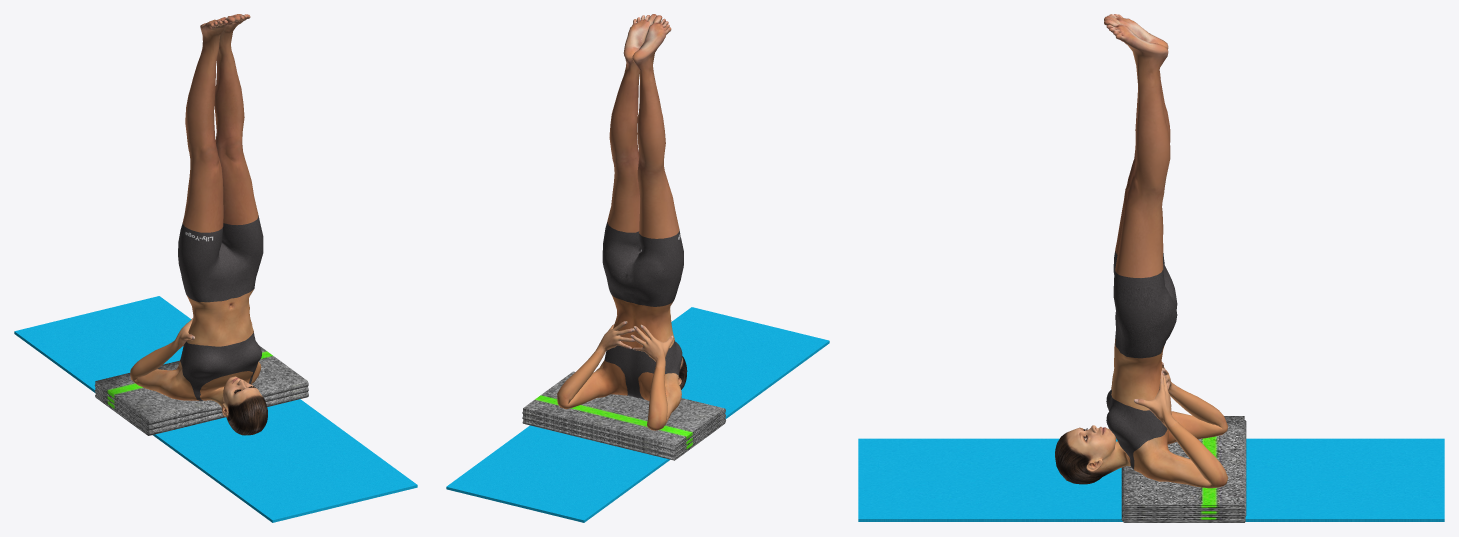
The model's file is sarvangasana.glb.
3 renders of one model, left to right at view 1: azimuth 30°, elevation 25°; view 2: azimuth 150°, elevation 25°; view 3: azimuth 270°, elevation 25°, orthographic. The views are drawn at different scales.
Visible parts, largest first — view 1: Lily_Texture01_06_2016_jpg-material, Mat-one-piece_jpg-material, StripeGreenOnBlanketLowRes_jpg-material (×3); view 2: Lily_Texture01_06_2016_jpg-material, Mat-one-piece_jpg-material, StripeGreenOnBlanketLowRes_jpg-material (×3); view 3: Mat-one-piece_jpg-material, Lily_Texture01_06_2016_jpg-material, StripeGreenOnBlanketLowRes_jpg-material (×3).
Boxes of the visible parts, x1,y1,x2,y2 form: Lily_Texture01_06_2016_jpg-material: [130, 14, 267, 435]; Mat-one-piece_jpg-material: [14, 296, 417, 522]; StripeGreenOnBlanketLowRes_jpg-material (×3): [94, 345, 308, 435]; Lily_Texture01_06_2016_jpg-material: [557, 14, 687, 430]; Mat-one-piece_jpg-material: [446, 307, 829, 522]; StripeGreenOnBlanketLowRes_jpg-material (×3): [522, 371, 725, 460]; Mat-one-piece_jpg-material: [858, 438, 1444, 521]; Lily_Texture01_06_2016_jpg-material: [1055, 14, 1228, 488]; StripeGreenOnBlanketLowRes_jpg-material (×3): [1121, 416, 1246, 522].
Size of what is drawn, in the model's own units: 2.2 by 5.38 by 6.17.
Materials: 4 (3 with a texture image).
